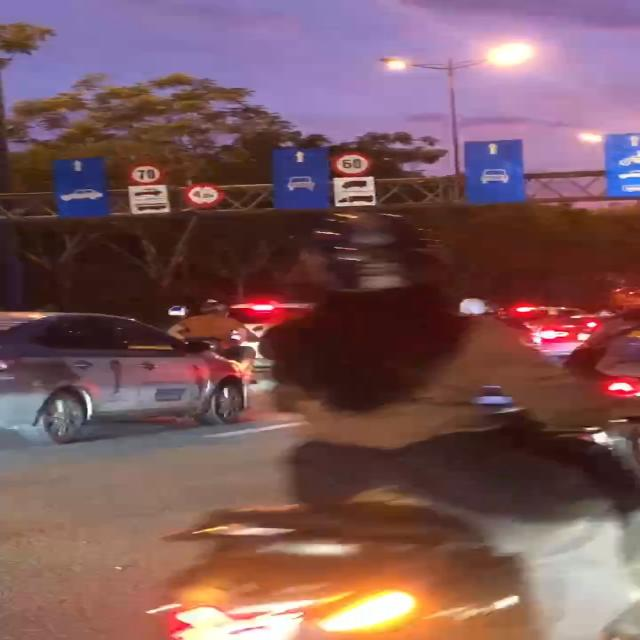Bien bao toc do toi da cho phep: (326, 150, 378, 178), (122, 160, 170, 185)
